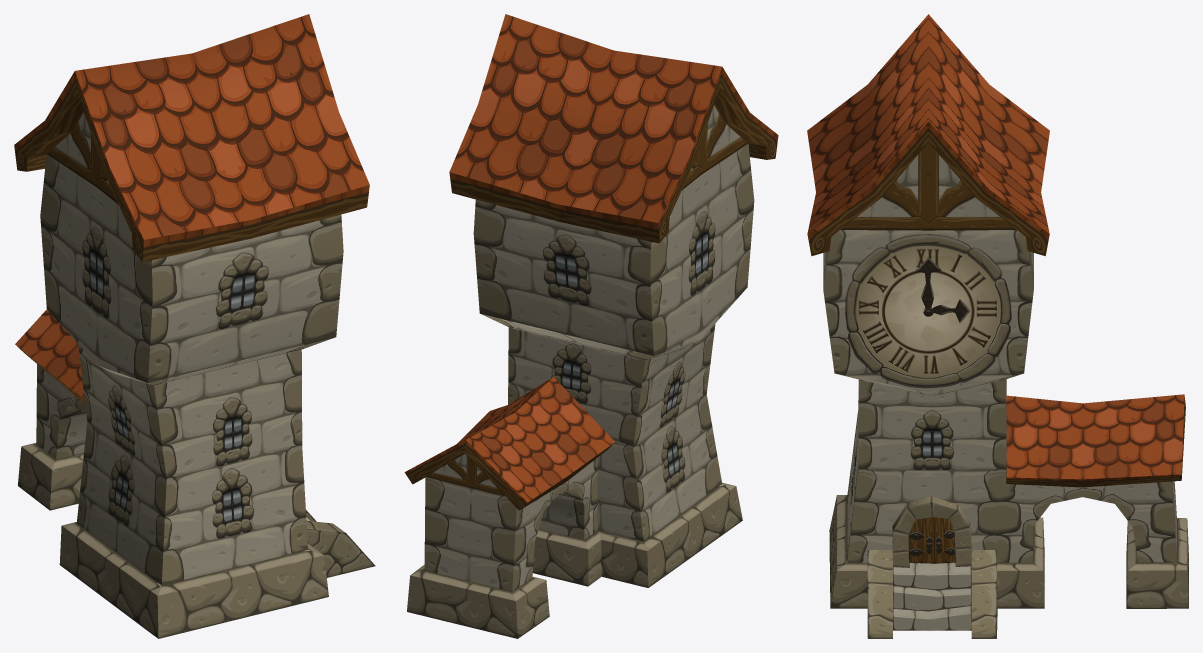
Rendered from clocktower.FBX.
3 views of the same model, side by side, from view 1: azimuth 30°, elevation 25°; view 2: azimuth 150°, elevation 25°; view 3: azimuth 270°, elevation 25° (orthographic). The views are drawn at different scales.
Parts seen in each view (by area): view 1: clocktower; view 2: clocktower; view 3: clocktower, clockhand_big.
Part boxes in pixels (bbox=[...]): clocktower: bbox=[14, 14, 375, 638]; clocktower: bbox=[404, 14, 778, 638]; clocktower: bbox=[807, 14, 1188, 638]; clockhand_big: bbox=[915, 257, 941, 316].
Size of the model in its own units: 60.32 by 115 by 79.41.
